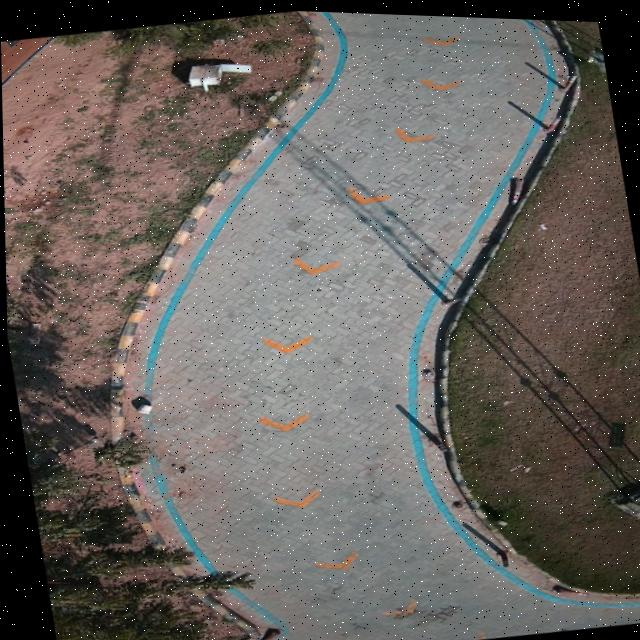No Car: (1, 9, 640, 640)
